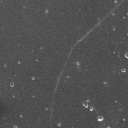corrosion: (81, 101, 93, 111), (96, 114, 105, 123), (75, 61, 83, 70), (56, 121, 63, 128), (120, 67, 127, 73), (29, 75, 36, 81), (8, 82, 15, 87), (124, 52, 128, 58), (102, 81, 107, 85)
